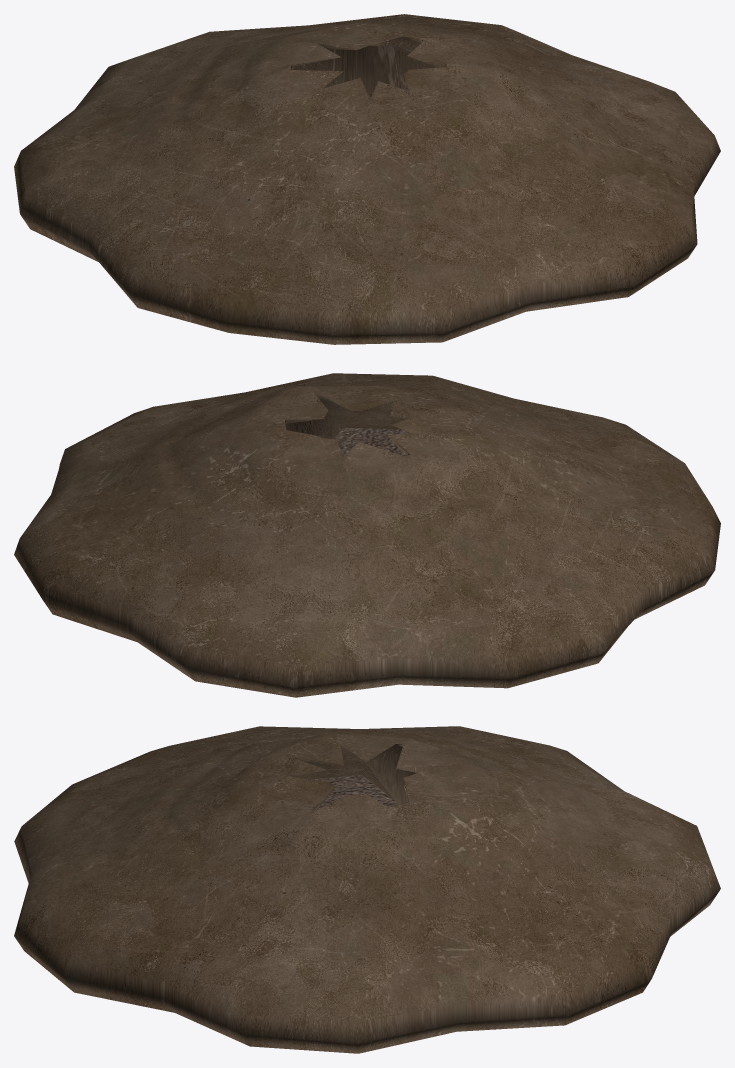
Rendered from geyser.glb.
3 renders of one model, top to bottom at view 1: azimuth 30°, elevation 25°; view 2: azimuth 150°, elevation 25°; view 3: azimuth 270°, elevation 25°, orthographic.
Visible parts, largest first — view 1: pCylinder1; view 2: pCylinder1, pPlane1; view 3: pCylinder1, pPlane1.
Part boxes in pixels (x1,y1,x2,y2): pCylinder1: [14, 14, 720, 344]; pCylinder1: [14, 373, 720, 697]; pPlane1: [333, 428, 410, 456]; pCylinder1: [14, 726, 720, 1053]; pPlane1: [311, 775, 398, 809].
Bounding box in the file's own units: 69.08 × 14.19 × 69.08.
2 materials, 2 textured.
